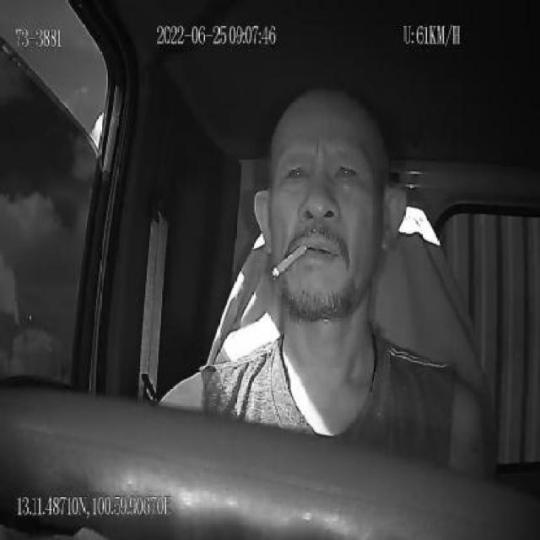smoking: (272, 243, 307, 278)
